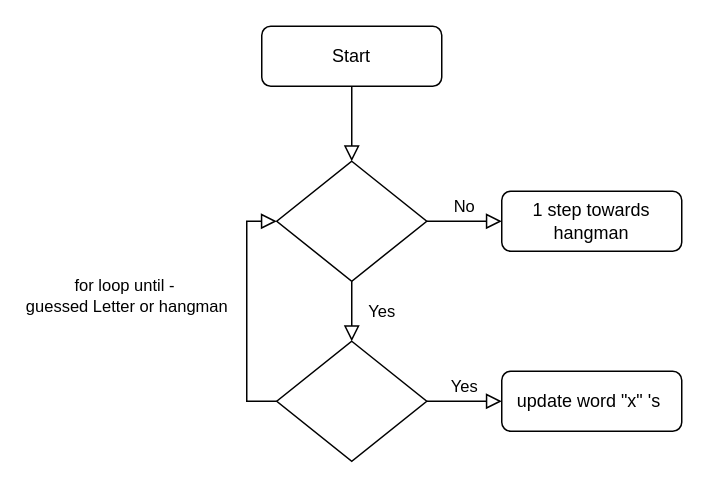
This 708x488 diagram has some shape labels left out. The shapes that lost their labels are listed below. From the top down, each one's centre as x and y in pixels, then its label:
point (351, 220): if Alphabet guessed
point (351, 400): show all same Letter "x"
